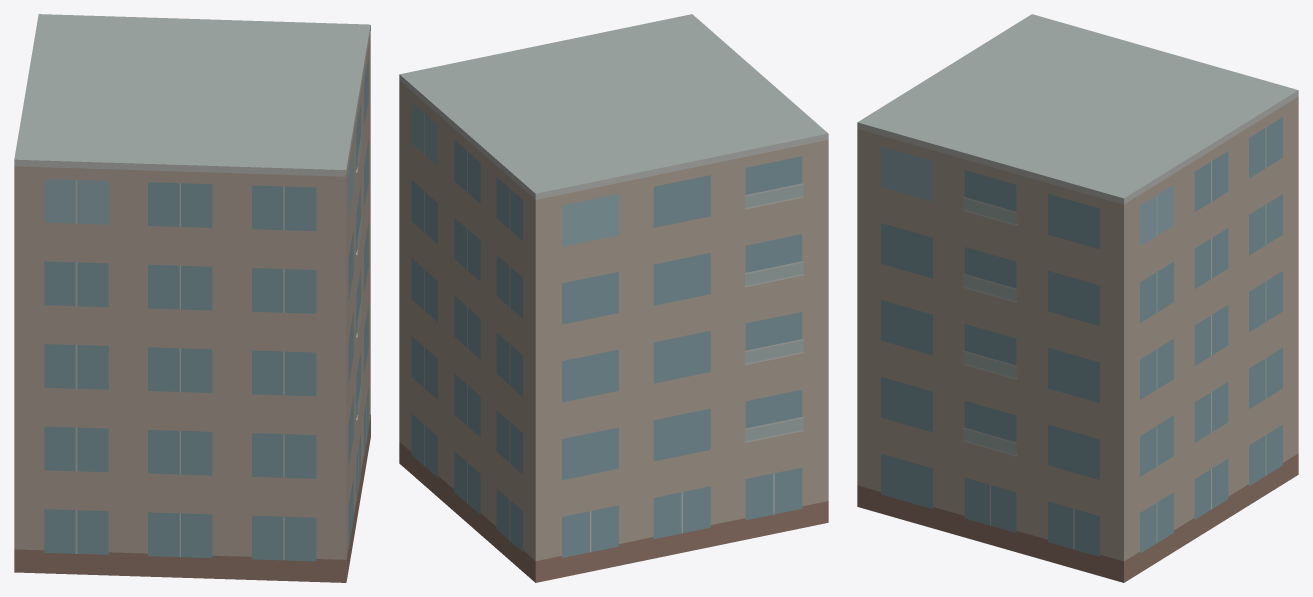
File: survey-upis-32543129.glb
3 views of the same model, side by side, from view 1: azimuth 30°, elevation 25°; view 2: azimuth 150°, elevation 25°; view 3: azimuth 270°, elevation 25° (orthographic). The views are drawn at different scales.
Parts seen in each view (by area): view 1: survey-upis-32543129.tmp; view 2: survey-upis-32543129.tmp; view 3: survey-upis-32543129.tmp.
Boxes of the visible parts, x1,y1,x2,y2 form: survey-upis-32543129.tmp: (14,14,370,582); survey-upis-32543129.tmp: (399,14,828,582); survey-upis-32543129.tmp: (857,14,1298,582).
Size of the model in its own units: 15.7 by 15.25 by 15.88.
